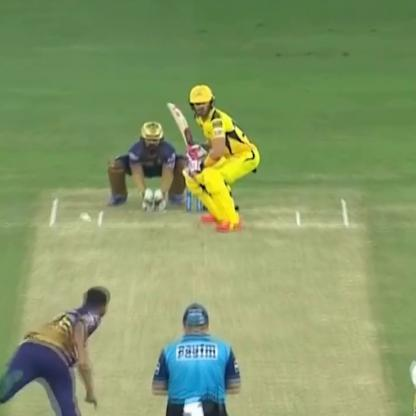ball: (73, 212, 98, 227)
bat: (164, 89, 212, 177)
pitch: (12, 188, 388, 416)
